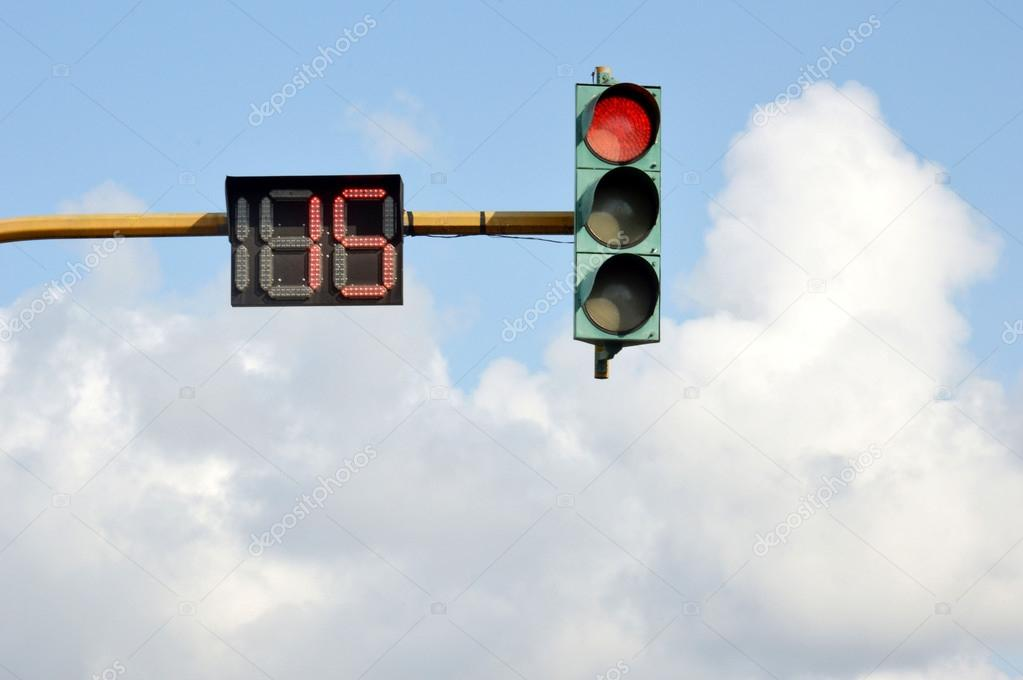traffic light: (515, 36, 720, 403)
